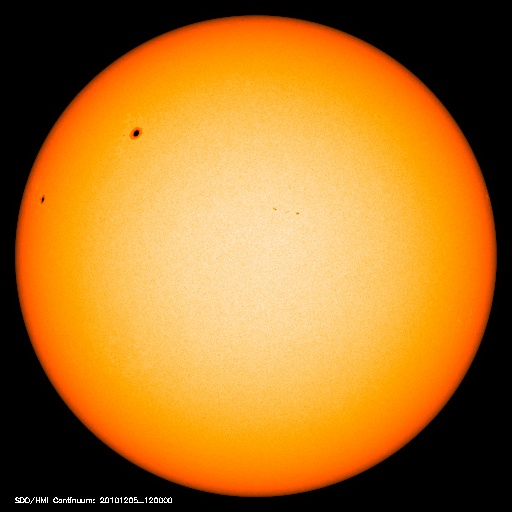sunspot: (120, 117, 153, 147), (265, 199, 304, 221), (33, 184, 53, 212)
